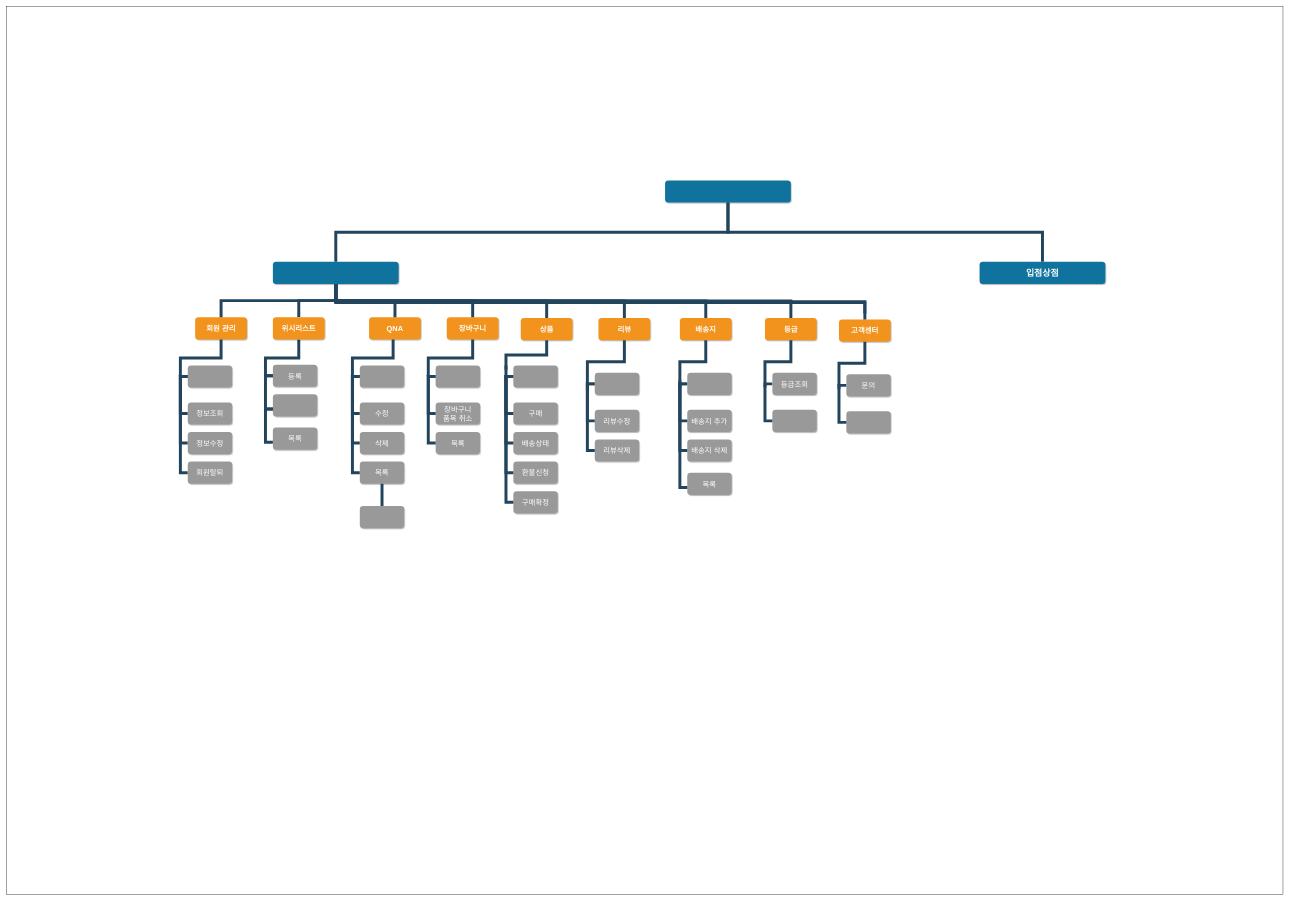
Some shapes in this 1289 by 901 pixel diagram are drawn without their labels. Each missing label, with the centre of its shape:
"E-mail 상담" belongs at (x=869, y=423).
"결제창" belongs at (x=536, y=377).
"기본 배송지 설정" belongs at (x=710, y=384).
"답변글" belongs at (x=382, y=517).
"로그인/로그아웃" belongs at (x=728, y=192).
"리뷰작성" belongs at (x=617, y=384).
"사용자" belongs at (x=336, y=273).
"작성" belongs at (x=382, y=377).
"장바구니 품목 등록" belongs at (x=458, y=377).
"취소" belongs at (x=295, y=406).
"쿠폰 받기" belongs at (x=795, y=421).
"회원가입" belongs at (x=210, y=377).
